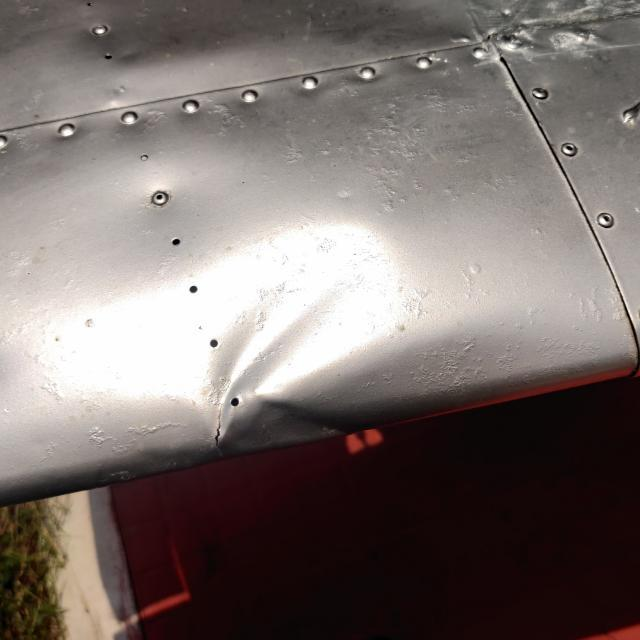crack: (206, 408, 239, 466)
dent: (177, 227, 404, 466)
